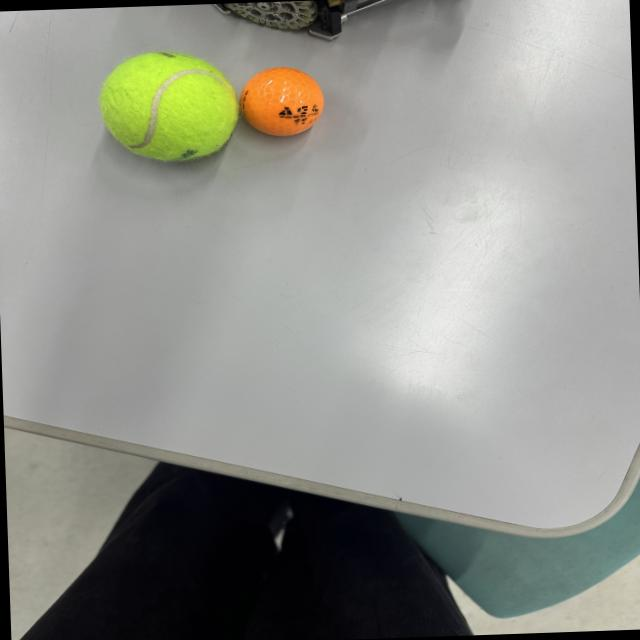ball: (235, 64, 334, 142)
